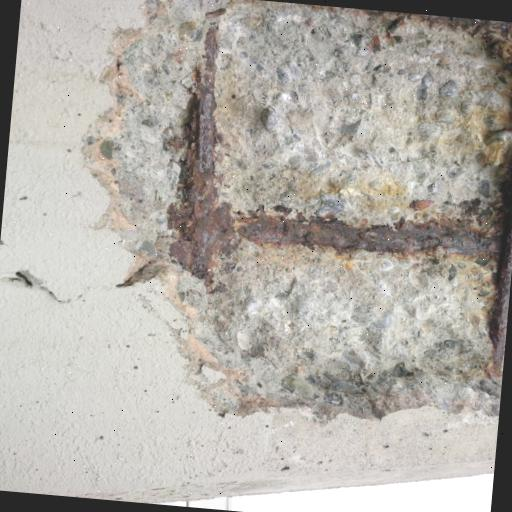spalling: (103, 0, 512, 405)
